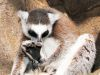cat: (10, 9, 61, 74)
